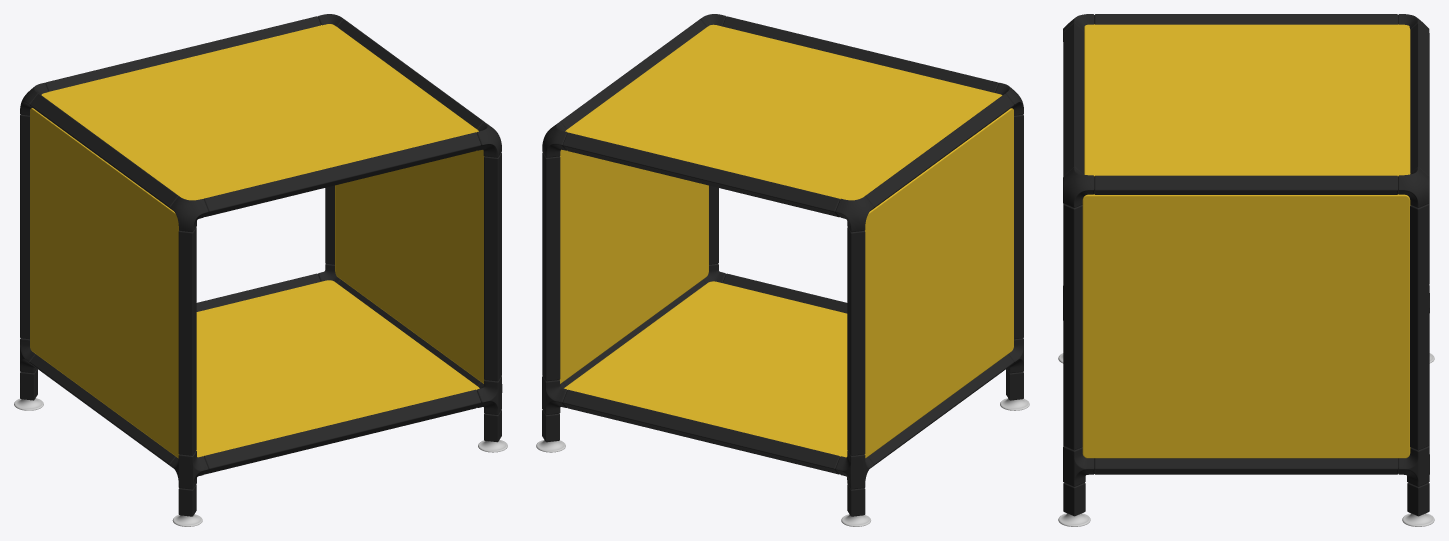
The picture shows the model from 3 angles, left to right: view 1: azimuth 30°, elevation 25°; view 2: azimuth 150°, elevation 25°; view 3: azimuth 270°, elevation 25°; orthographic projection. The views are drawn at different scales.
Parts seen in each view (by area): view 1: 420x374x330; view 2: 420x374x330; view 3: 420x374x330.
Boxes of the visible parts, left/top/right/bottom form: 420x374x330: left=14, top=14, right=507, bottom=526; 420x374x330: left=536, top=14, right=1029, bottom=526; 420x374x330: left=1058, top=14, right=1434, bottom=526.
Bounding box in the file's own units: 0.5099 × 0.4683 × 0.4632.
